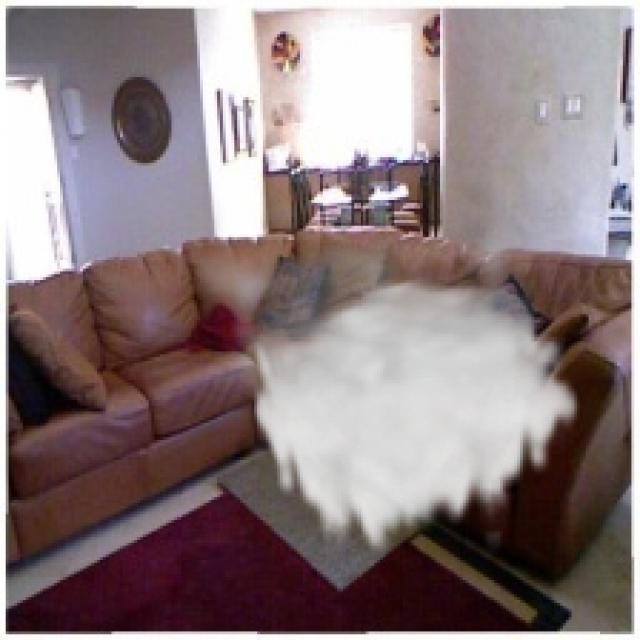Smoke: (180, 211, 583, 560)
